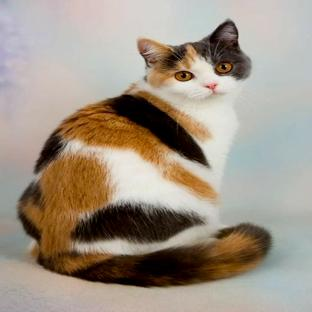Animal: (18, 20, 272, 287)
